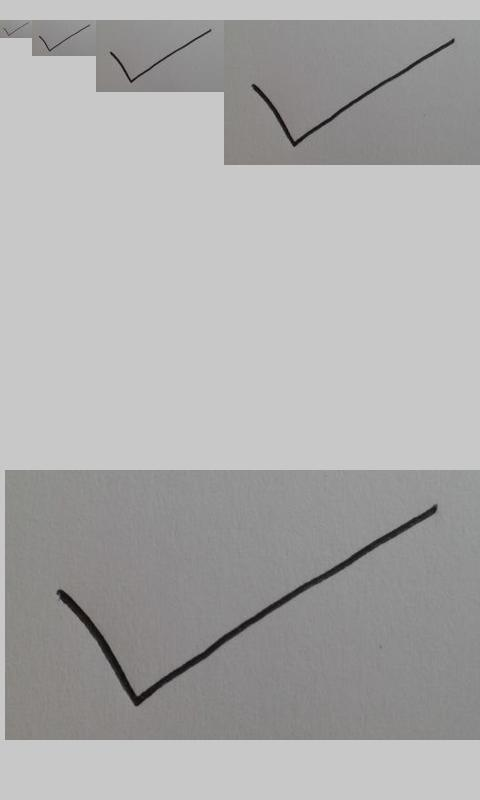check_box: (56, 503, 440, 705), (252, 38, 456, 148), (110, 28, 211, 83), (39, 24, 91, 52), (3, 22, 27, 36)
